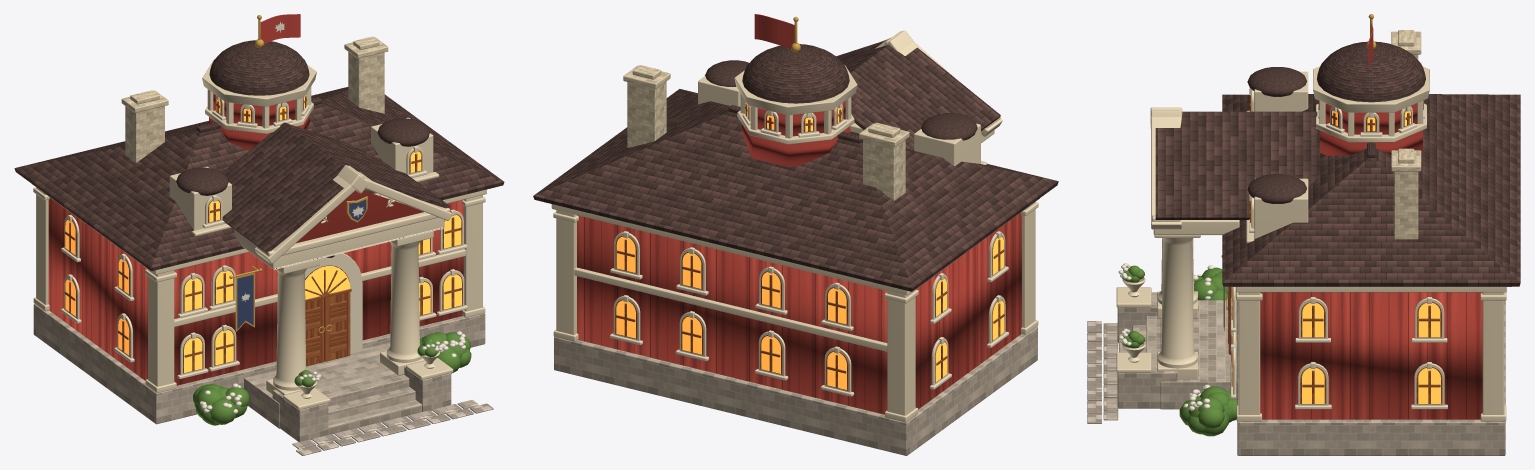
Rendered from building_mayor.glb.
3 renders of one model, left to right at view 1: azimuth 30°, elevation 25°; view 2: azimuth 150°, elevation 25°; view 3: azimuth 270°, elevation 25°, orthographic. The views are drawn at different scales.
Visible parts, largest first — view 1: model; view 2: model; view 3: model.
Part boxes in pixels (x1,y1,x2,y2): model: [14, 14, 504, 455]; model: [533, 14, 1058, 455]; model: [1087, 14, 1520, 455].
Bounding box in the file's own units: 11.5 × 10.17 × 11.18.
16 materials, 6 textured.
